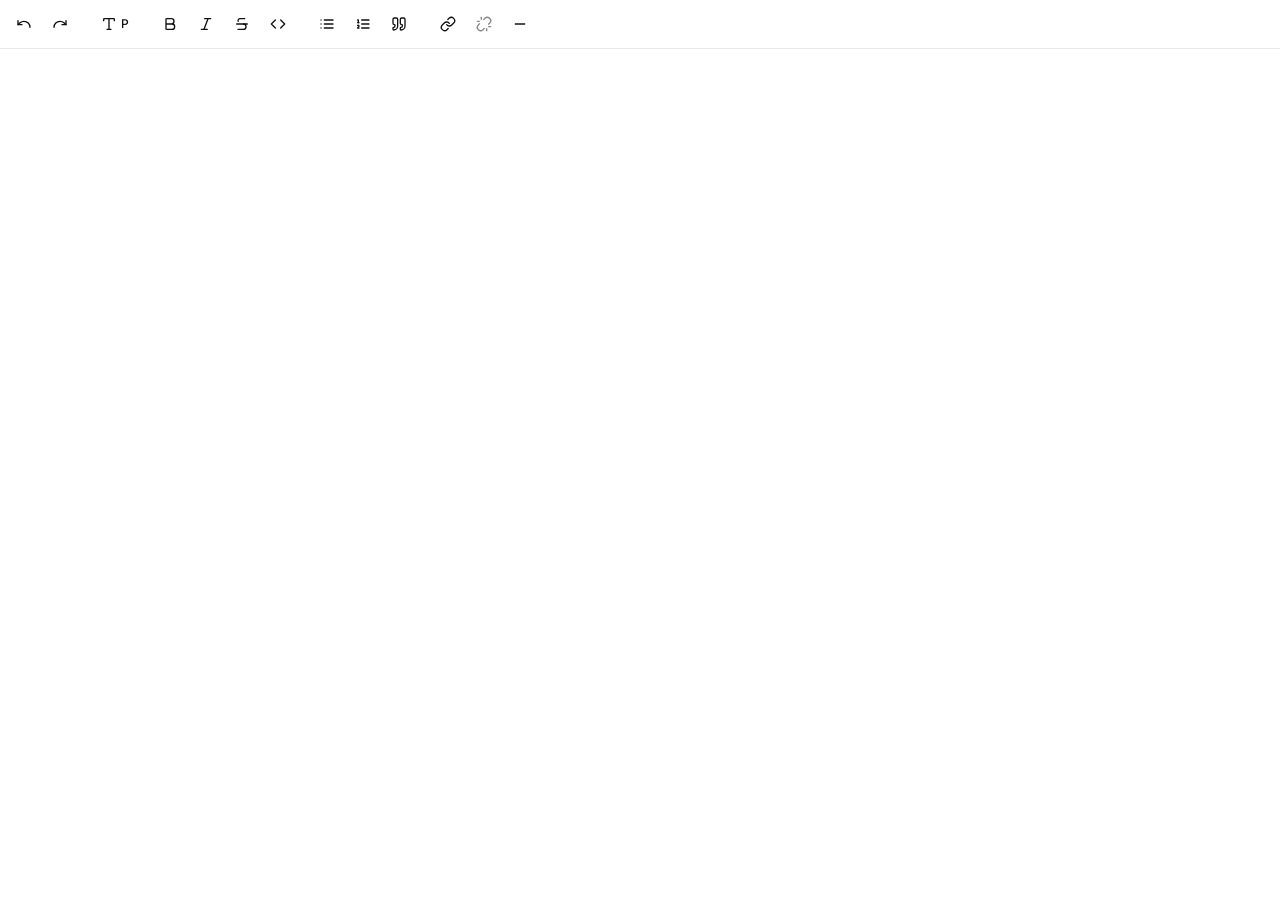
EditorToolbar › should close link dialog when cancel is clicked
Click the button titled "Add Link" at (448, 24), box [432,8,464,40]
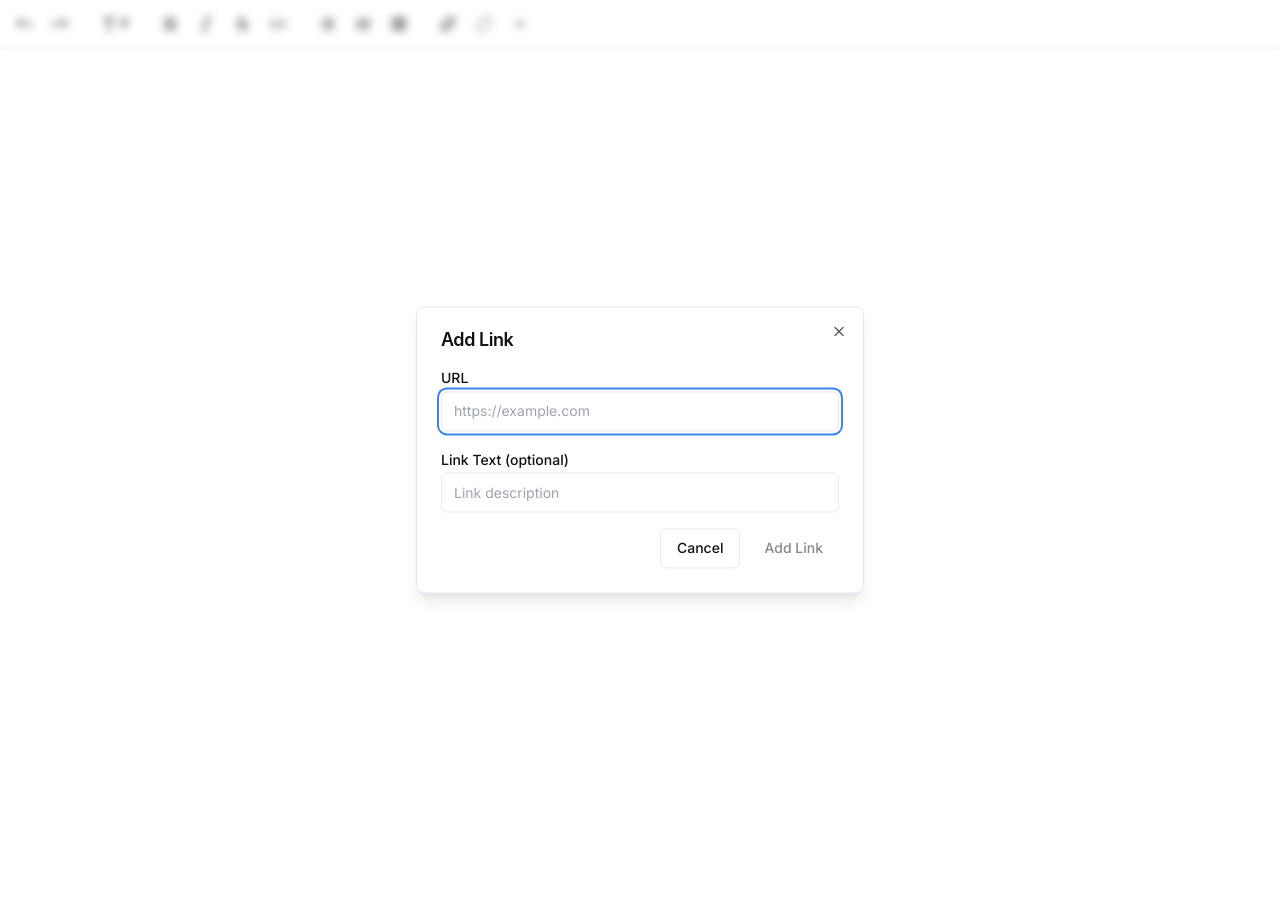
Click the button "Cancel" at (700, 549), box [660,529,740,569]
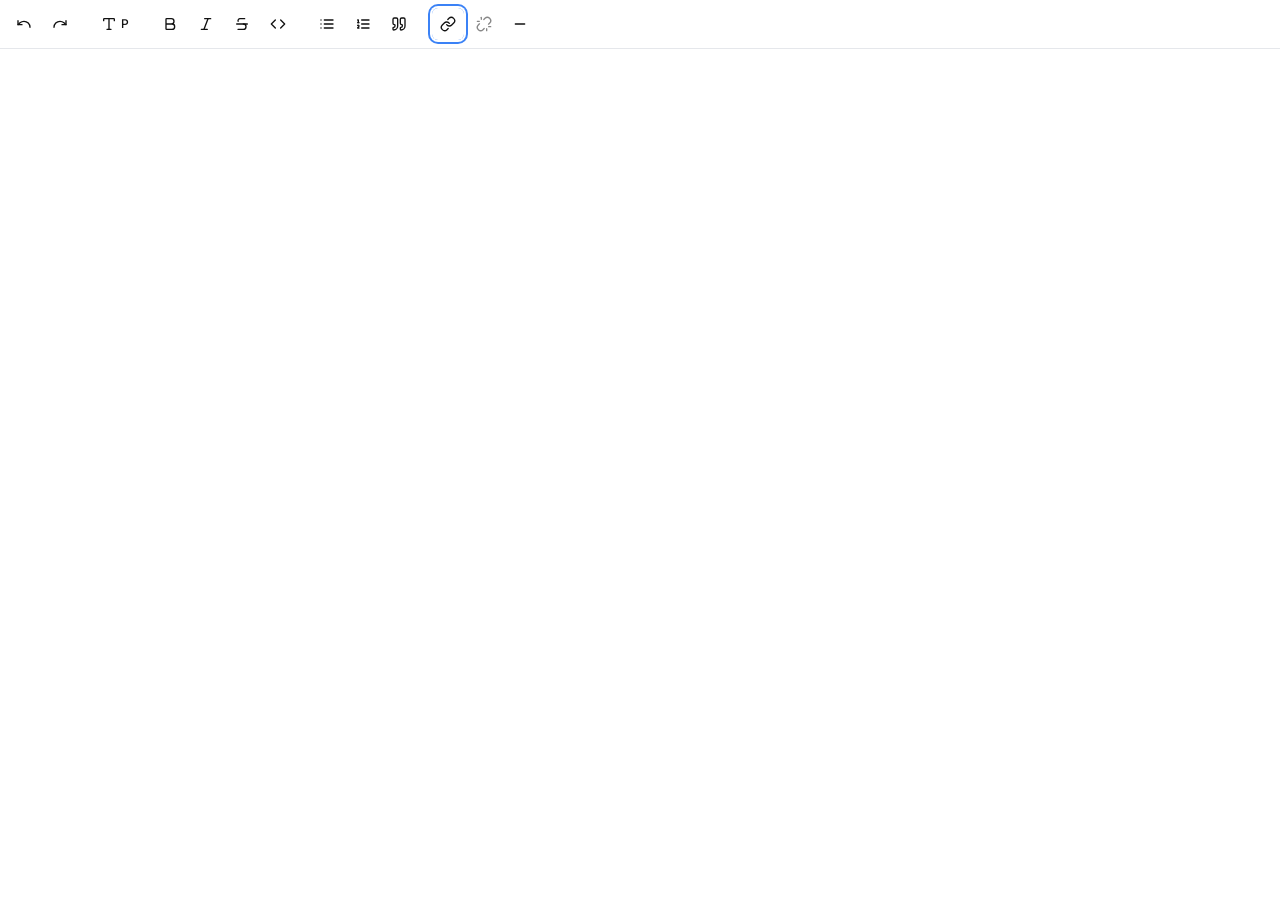
Check: the heading "Add Link" is gone
